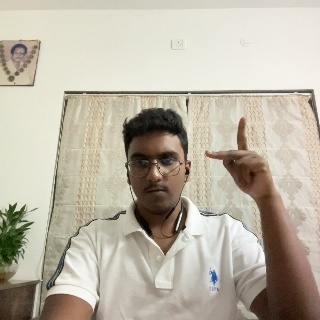Face: (126, 122, 187, 213)
Okay: (206, 116, 283, 219)
